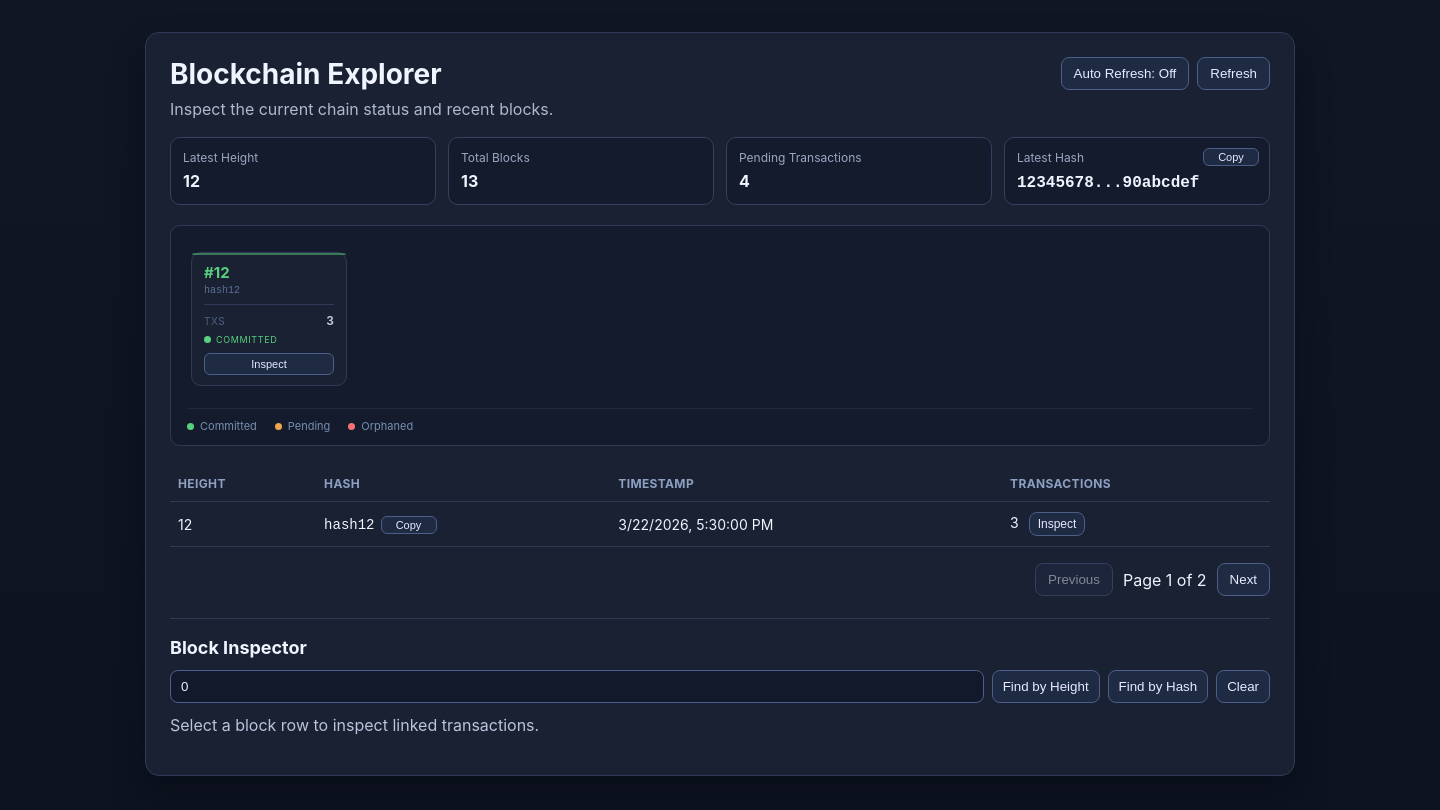
Test: supports next-page pagination
Expected: the text "Page 1 of 2" is shown, [1123,570,1207,590]
Click the button "Next": (1243, 580) [1217,563,1270,596]
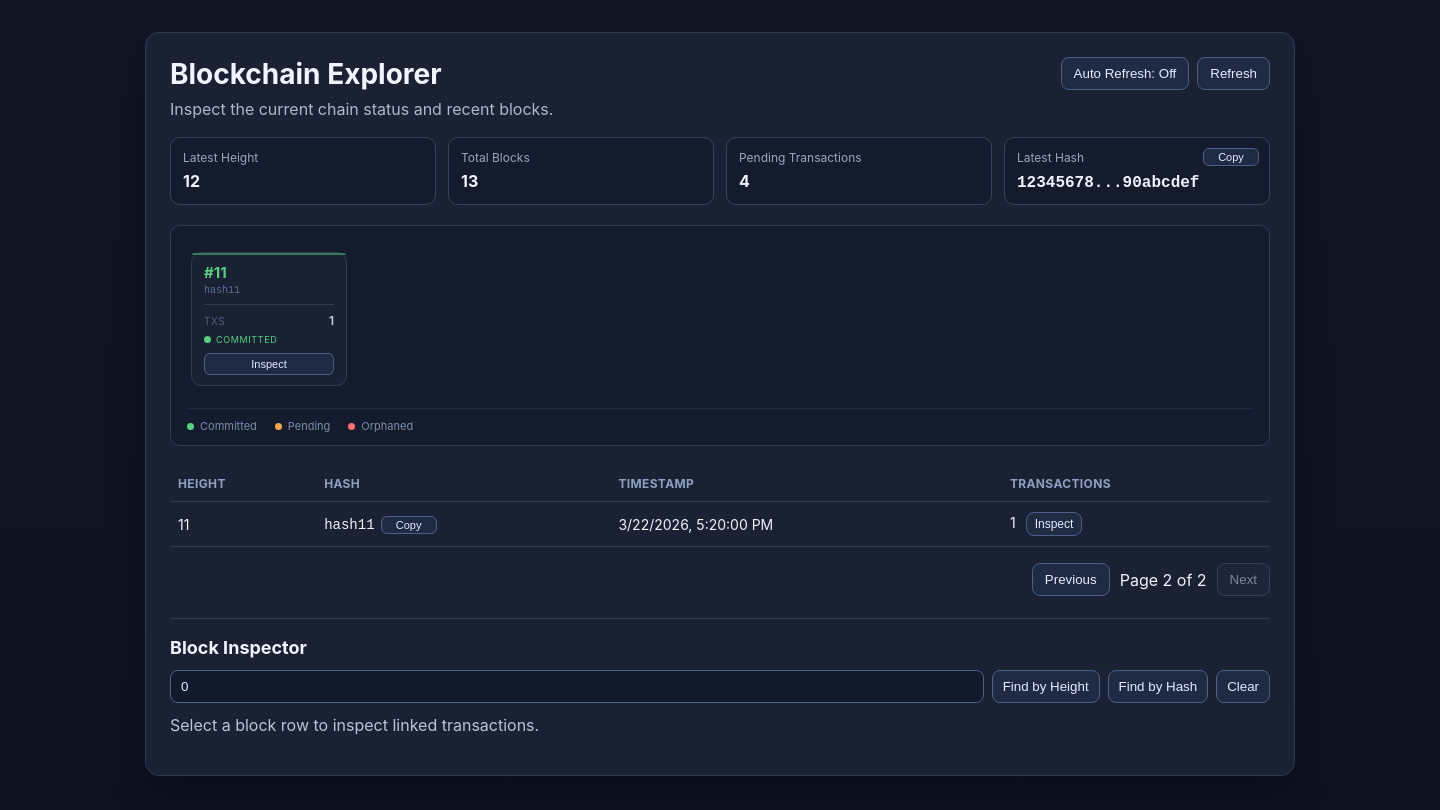
Result: the text "Page 2 of 2" is shown at [1120,570,1207,590]
